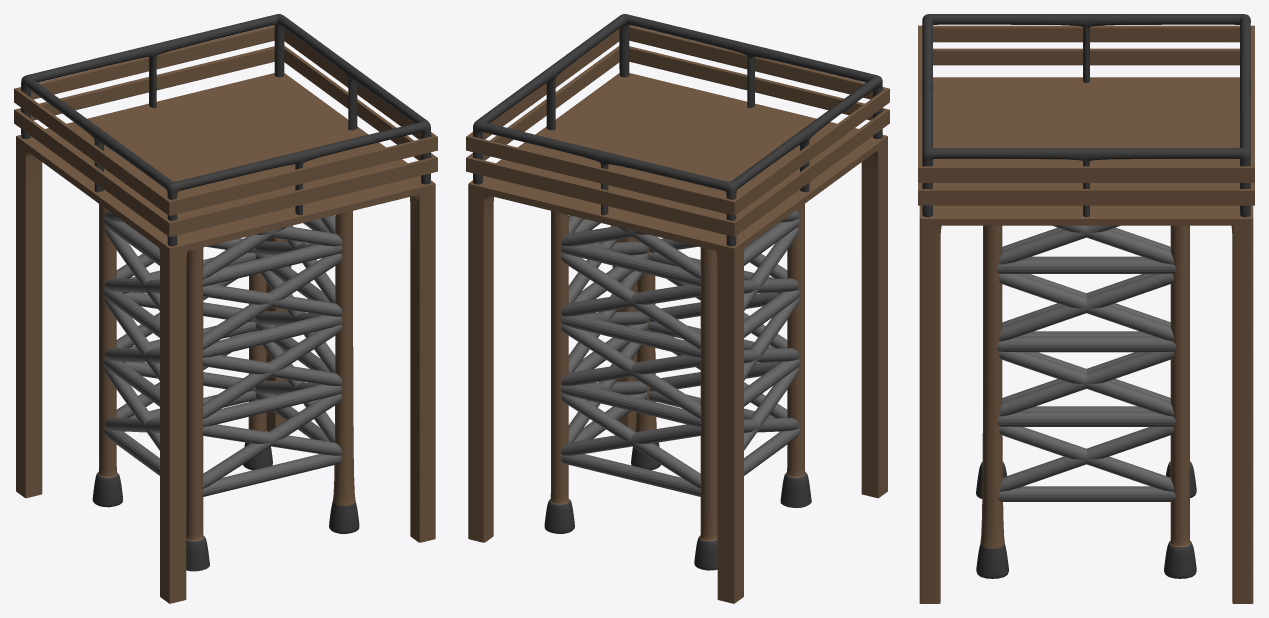
The model's file is Watchtower.fbx.
The picture shows the model from 3 angles, left to right: view 1: azimuth 30°, elevation 25°; view 2: azimuth 150°, elevation 25°; view 3: azimuth 270°, elevation 25°; orthographic projection. The views are drawn at different scales.
Visible parts, largest first — view 1: Cube; view 2: Cube; view 3: Cube.
Part boxes in pixels (x1,y1,x2,y2): Cube: (14, 14, 437, 603); Cube: (466, 14, 889, 603); Cube: (918, 14, 1254, 603).
Bounding box in the file's own units: 8.06 × 11.96 × 8.08.
